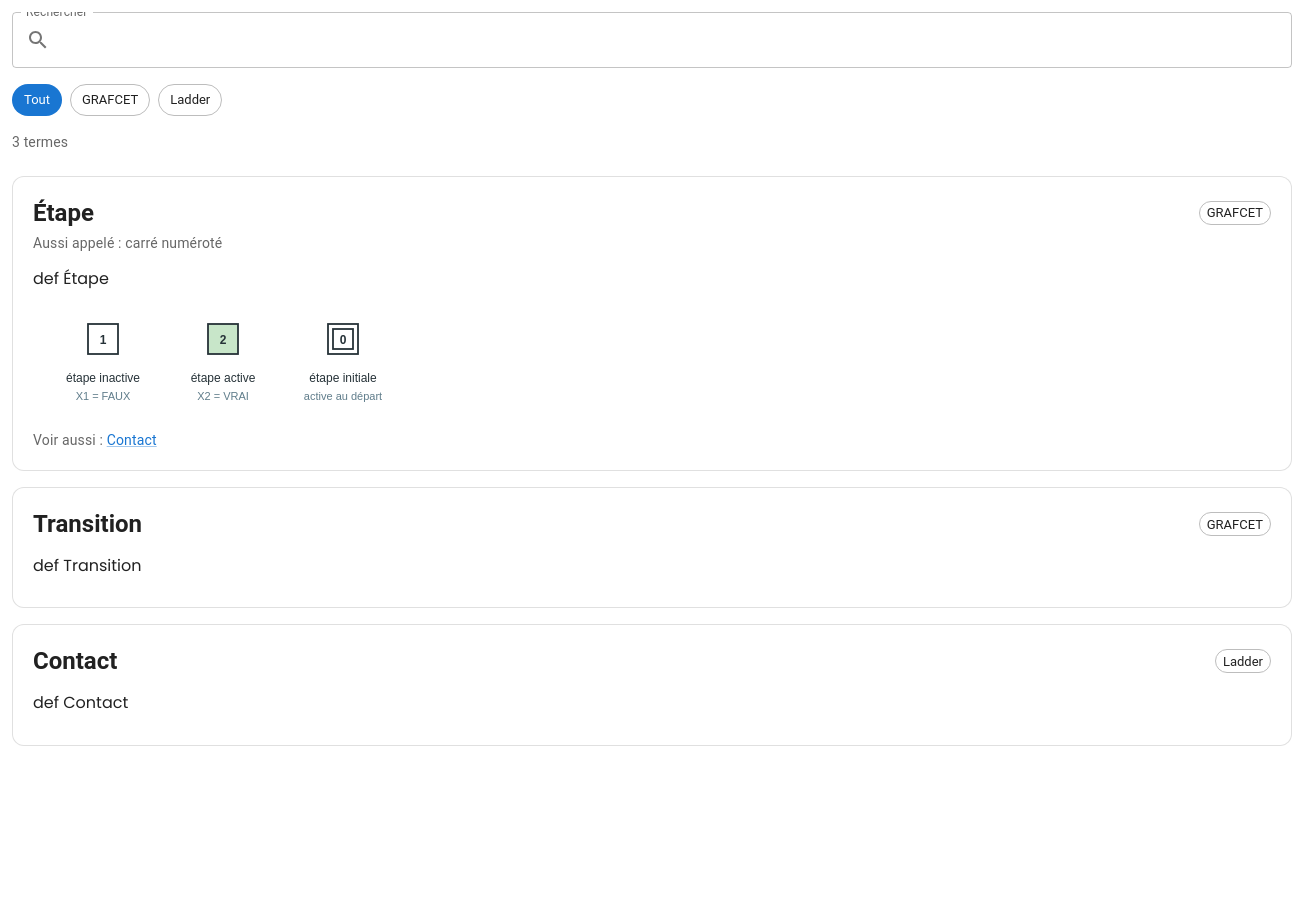
Test: GlossaryBrowser › ne cherche que dans les titres, pas dans les alias
The width and height of the screenshot is (1304, 912).
Step 1. Type "carre" into the search field labelled "Rechercher" → (675, 40), box [58,12,1292,68]
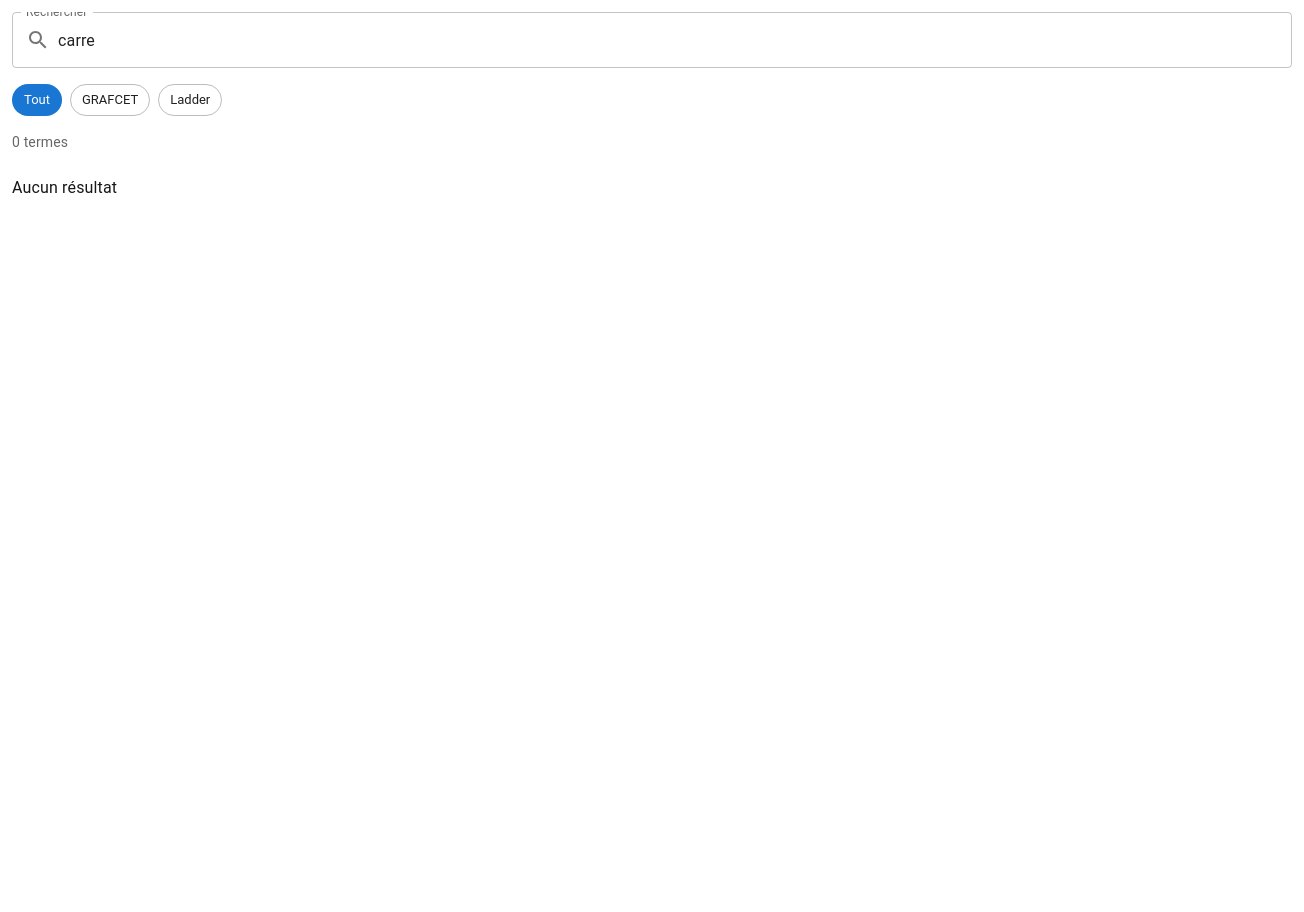
Now the text "Aucun résultat" is shown, box [12,178,117,197]
